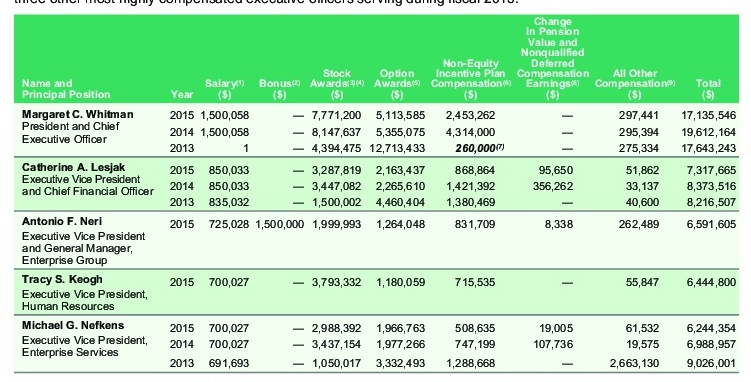table: (0, 0, 751, 382)
